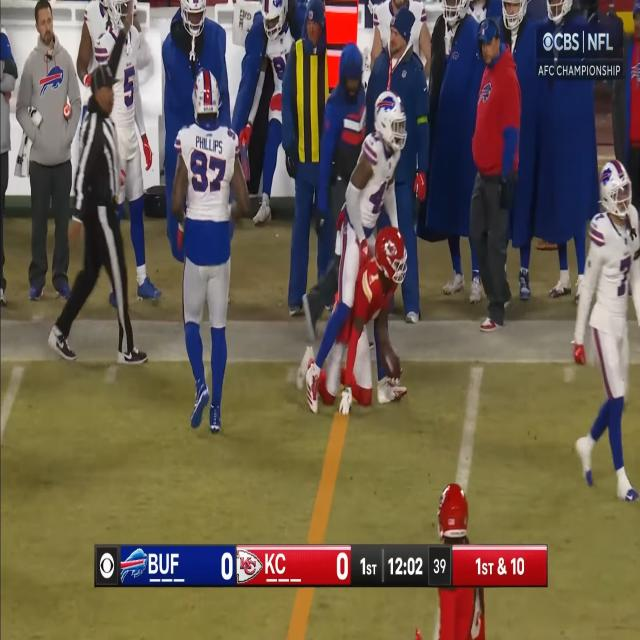Ball: (378, 343, 400, 382)
